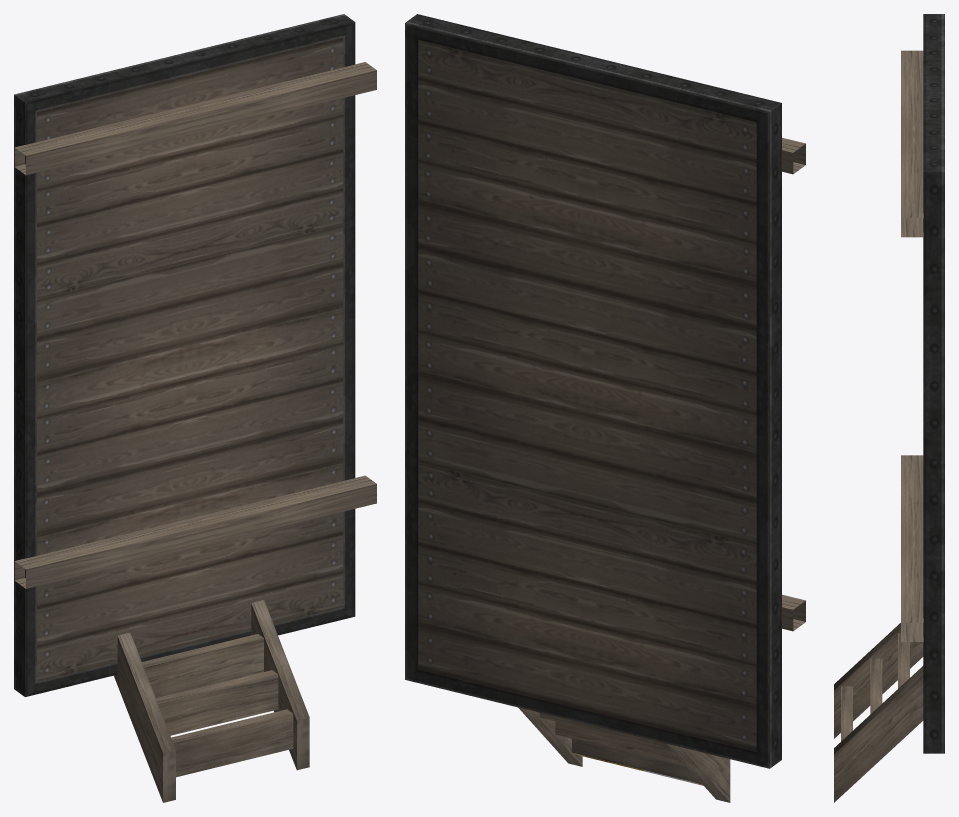
File: Caravan_A_Platform.fbx
The picture shows the model from 3 angles, left to right: view 1: azimuth 30°, elevation 25°; view 2: azimuth 150°, elevation 25°; view 3: azimuth 270°, elevation 25°; orthographic projection. The views are drawn at different scales.
Parts seen in each view (by area): view 1: Caravan_A_Platform; view 2: Caravan_A_Platform; view 3: Caravan_A_Platform.
Boxes of the visible parts, <box> form: Caravan_A_Platform: <box>14,14,376,802</box>; Caravan_A_Platform: <box>405,14,805,802</box>; Caravan_A_Platform: <box>834,14,944,802</box>.
Size of the model in its own units: 3.5 by 6.57 by 0.9791.
